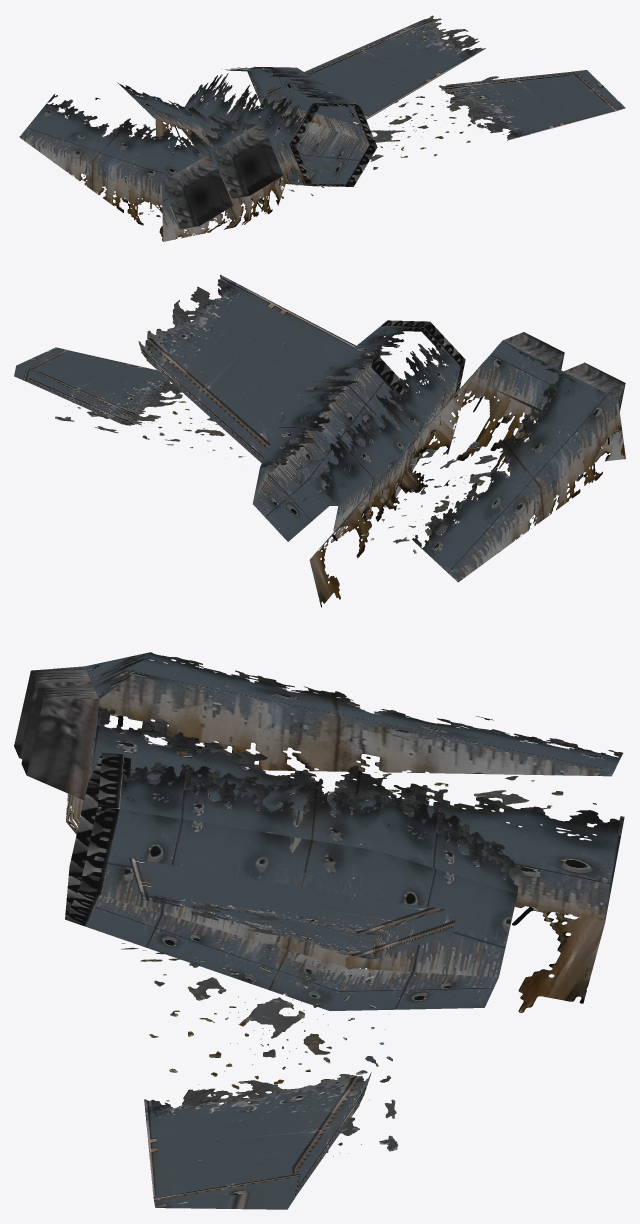
The model's file is crashwing_dam_hdtex.glb.
3 views of the same model, one above another, from view 1: azimuth 30°, elevation 25°; view 2: azimuth 150°, elevation 25°; view 3: azimuth 270°, elevation 25° (orthographic). The views are drawn at different scales.
Parts seen in each view (by area): view 1: Crash Wing; view 2: Crash Wing; view 3: Crash Wing.
Boxes of the visible parts, box(x1,y1,x2,y2) form: Crash Wing: box(19, 15, 625, 241); Crash Wing: box(14, 274, 625, 607); Crash Wing: box(14, 652, 624, 1209).
Bounding box in the file's own units: 53.5 × 17.99 × 31.31.
Materials: 4 (4 with a texture image).
